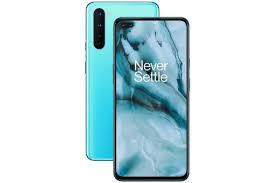Smartphone: (88, 5, 166, 165), (114, 15, 188, 180)
